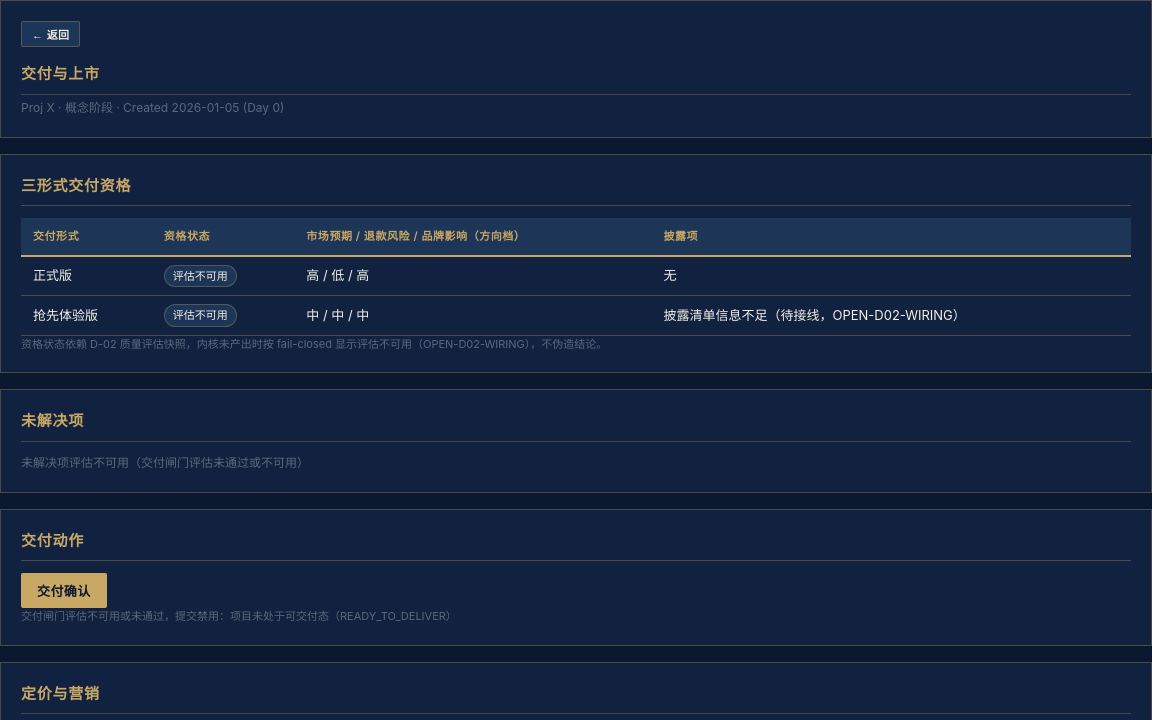
it: P-09 交付与上市页（批次 07B） › A-42 / G-9：EA 披露确认弹窗逐条展示 + 显式确认控件；评估快照缺失时提交禁用带 fail-closed 原因
This screenshot has width=1152, height=720.
What coordinates should you click on to do the following:
click the button with test id "deliver-submit-open"
I would click on:
 (64, 590)
Its box is [21,573,107,608].
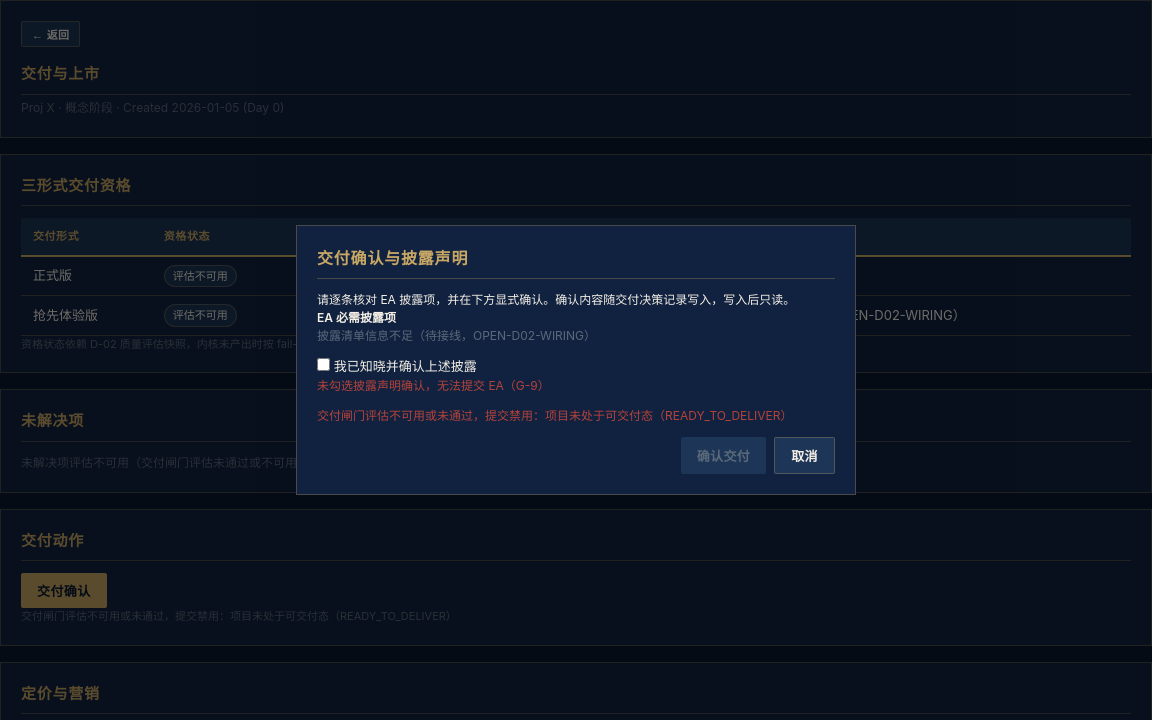
Expected: the element with test id "deliver-confirm-disclosures" is shown, [317,310,596,343]
Expected: the checkbox with test id "deliver-disclosure-ack" is not checked
Expected: the button with test id "deliver-submit-confirm" is disabled, [681,437,766,474]
What coordinates should you click on to do the following:
click the checkbox with test id "deliver-disclosure-ack"
I would click on:
 (324, 365)
Its box is [317,358,330,371].
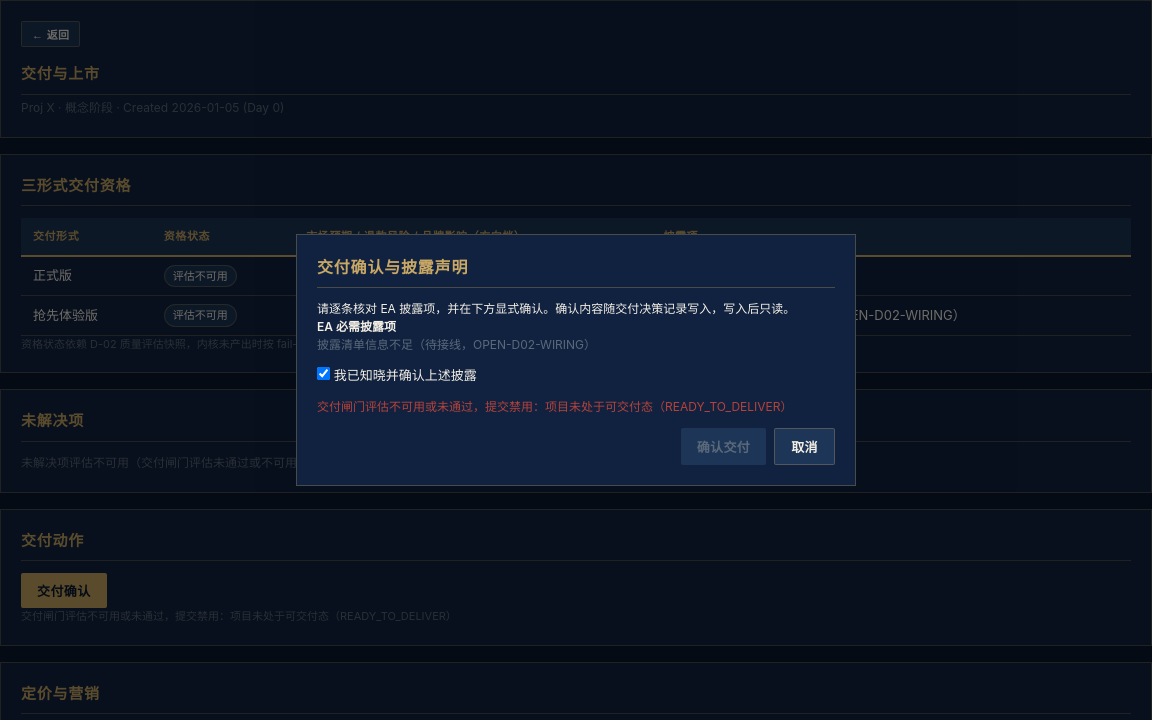
Expected: the checkbox with test id "deliver-disclosure-ack" is checked, [317,367,330,380]
